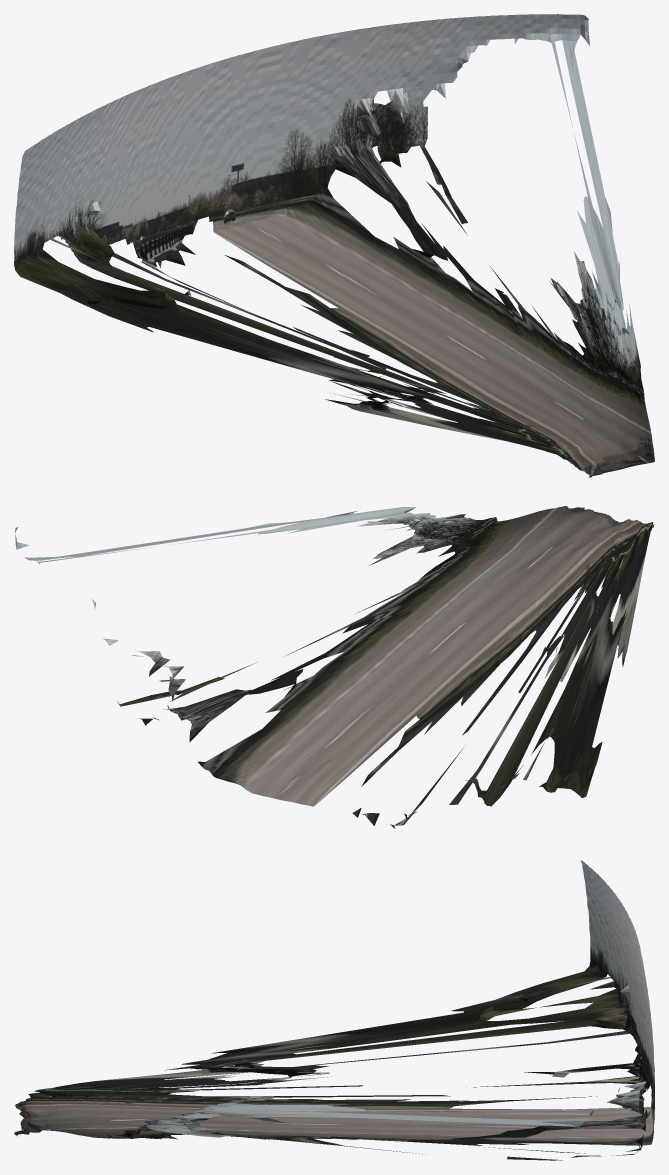
The picture shows the model from 3 angles, top to bottom: view 1: azimuth 30°, elevation 25°; view 2: azimuth 150°, elevation 25°; view 3: azimuth 270°, elevation 25°; orthographic projection. The views are drawn at different scales.
Parts seen in each view (by area): view 1: defaultobject; view 2: defaultobject; view 3: defaultobject.
Part boxes in pixels (bbox=[...]): defaultobject: bbox=[14, 14, 654, 477]; defaultobject: bbox=[15, 506, 654, 828]; defaultobject: bbox=[14, 860, 654, 1160].
Size of the model in its own units: 40.8 by 13.15 by 44.61.
Materials: 1 (1 with a texture image).
